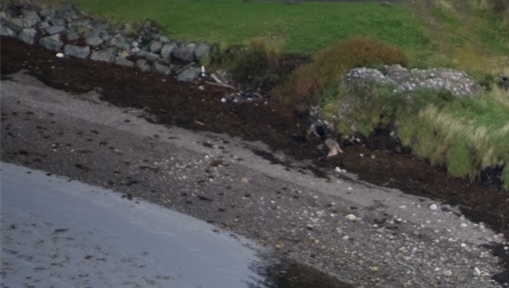together_barrel: (195, 61, 268, 113)
white_in_green: (294, 112, 371, 178), (35, 35, 83, 71)
